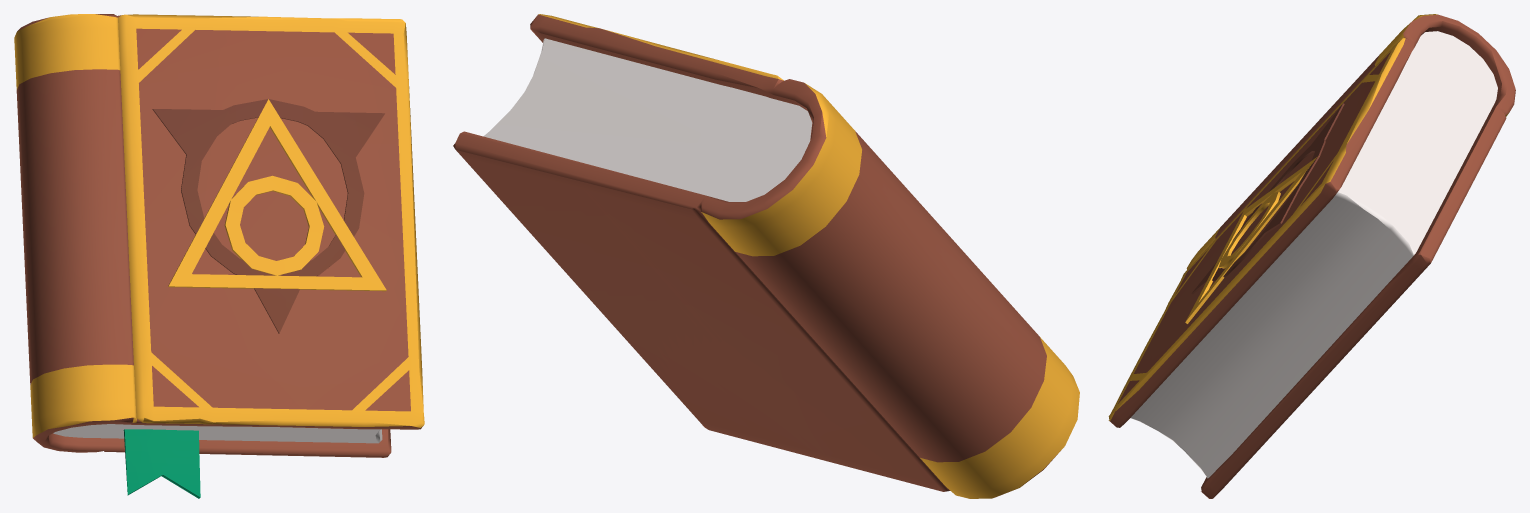
The picture shows the model from 3 angles, left to right: view 1: azimuth 30°, elevation 25°; view 2: azimuth 150°, elevation 25°; view 3: azimuth 270°, elevation 25°; orthographic projection. The views are drawn at different scales.
Visible parts, largest first — view 1: model_1.060; view 2: model_1.060; view 3: model_1.060.
Part boxes in pixels (x1,y1,x2,y2): model_1.060: [14, 14, 424, 498]; model_1.060: [453, 14, 1079, 498]; model_1.060: [1108, 14, 1515, 498].
Bounding box in the file's own units: 4.56 × 4.26 × 4.03.
